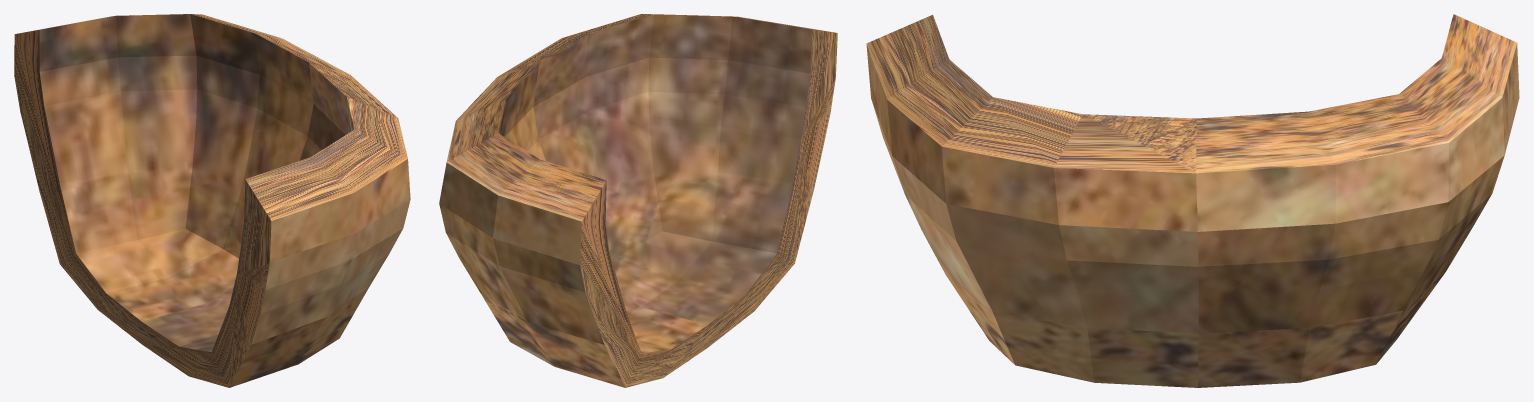
The model's file is mybeaker-rightdown.obj.
3 renders of one model, left to right at view 1: azimuth 30°, elevation 25°; view 2: azimuth 150°, elevation 25°; view 3: azimuth 270°, elevation 25°, orthographic. The views are drawn at different scales.
Parts seen in each view (by area): view 1: Cylinder; view 2: Cylinder; view 3: Cylinder.
Boxes of the visible parts, left/top/right/bottom form: Cylinder: left=14, top=14, right=410, bottom=387; Cylinder: left=439, top=14, right=837, bottom=387; Cylinder: left=866, top=14, right=1519, bottom=387.
Size of the model in its own units: 0.2167 by 0.23 by 0.4441.
Materials: 1 (1 with a texture image).
